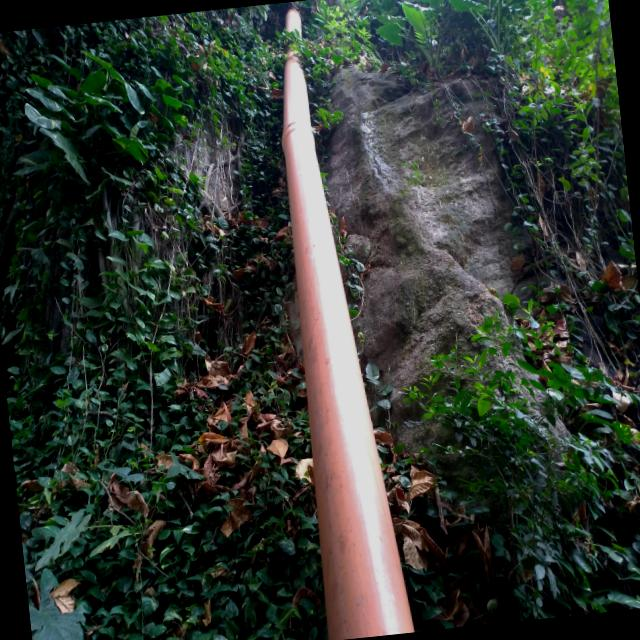gas: (283, 5, 416, 640)
